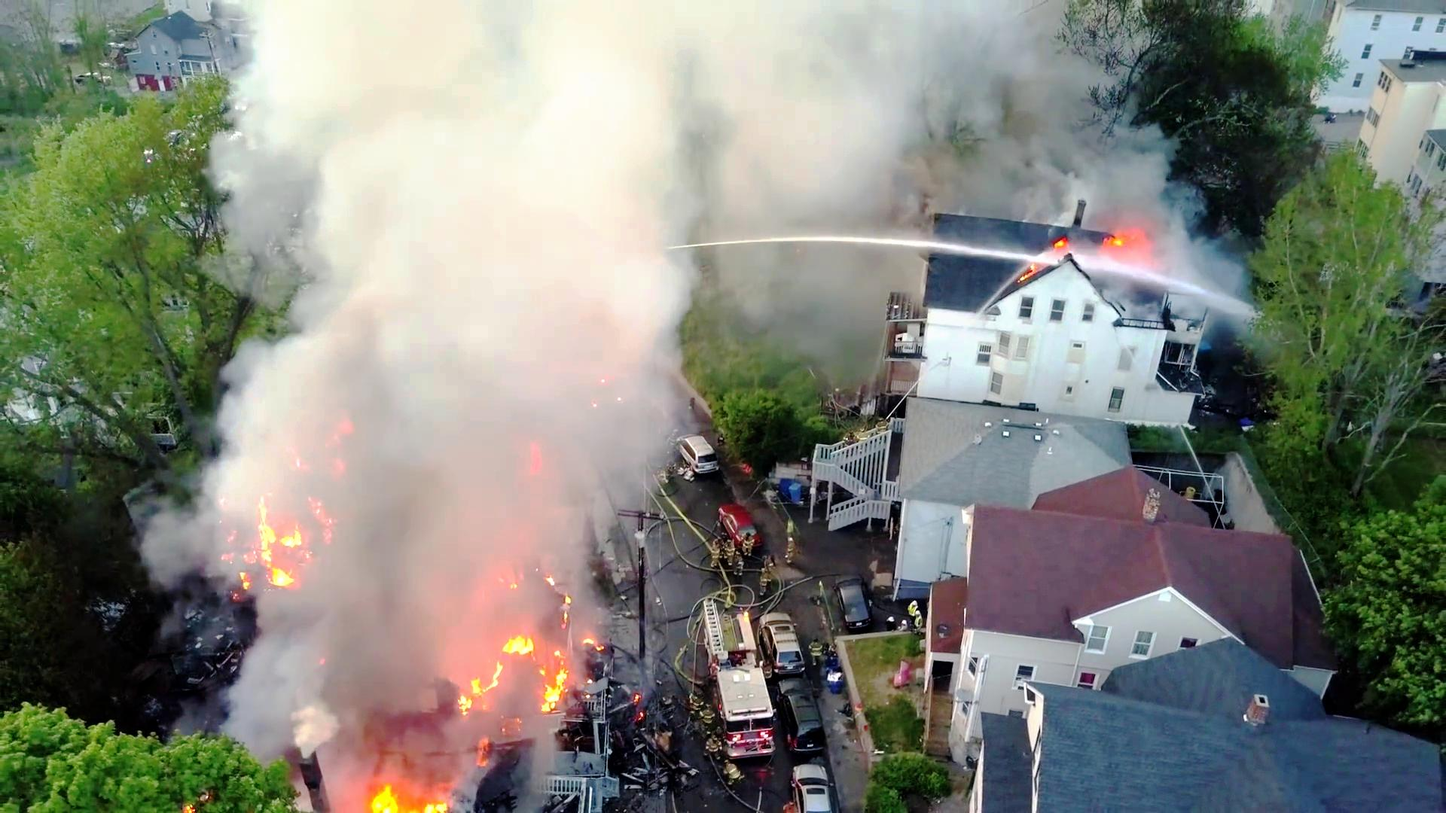fire: (232, 507, 317, 595), (366, 791, 453, 813)
smoke: (330, 25, 641, 431), (379, 588, 454, 733)
